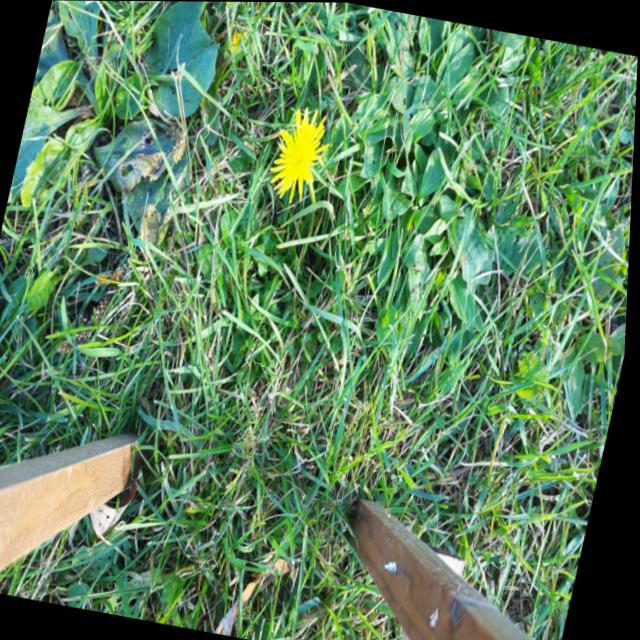base: (290, 237, 315, 271)
